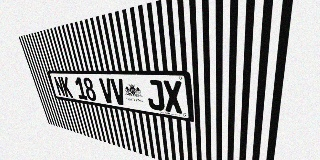1: (73, 77, 88, 100)
8: (82, 77, 97, 101)
J: (145, 80, 165, 111)
K: (60, 77, 73, 98)
N: (53, 76, 66, 97)
V: (110, 78, 127, 106), (99, 78, 115, 104)
X: (162, 80, 183, 114)
